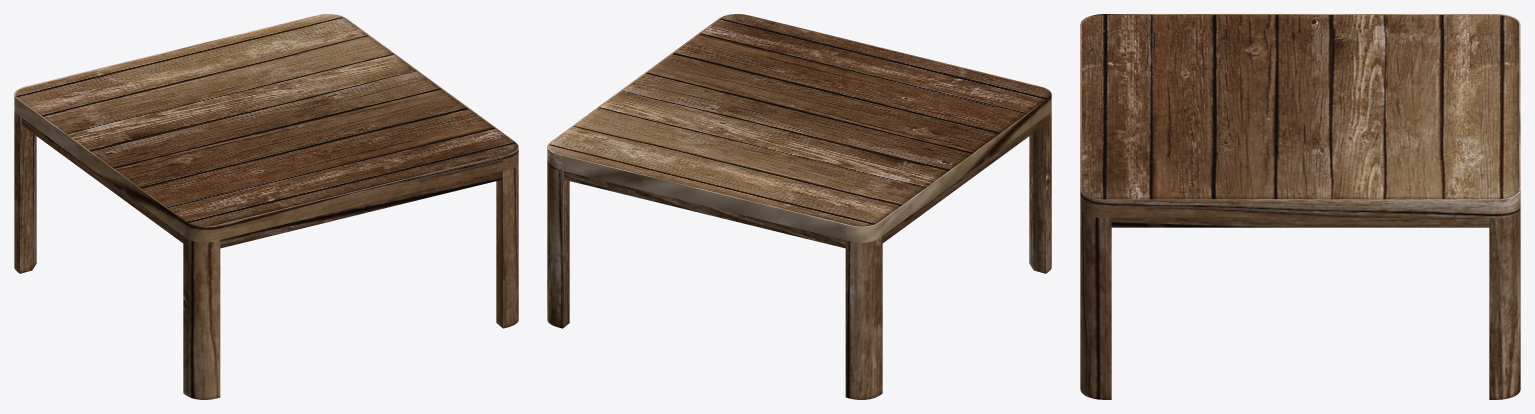
File: masa.fbx
3 renders of one model, left to right at view 1: azimuth 30°, elevation 25°; view 2: azimuth 150°, elevation 25°; view 3: azimuth 270°, elevation 25°, orthographic. The views are drawn at different scales.
Parts seen in each view (by area): view 1: Cube, Cube.002; view 2: Cube, Cube.002; view 3: Cube, Cube.002.
Boxes of the visible parts, left/top/right/bottom form: Cube: left=14, top=14, right=518, bottom=399; Cube.002: left=21, top=118, right=501, bottom=248; Cube: left=547, top=14, right=1051, bottom=399; Cube.002: left=564, top=118, right=1044, bottom=248; Cube: left=1080, top=14, right=1520, bottom=399; Cube.002: left=1111, top=218, right=1489, bottom=227.
Bounding box in the file's own units: 70 × 35.1 × 70.
